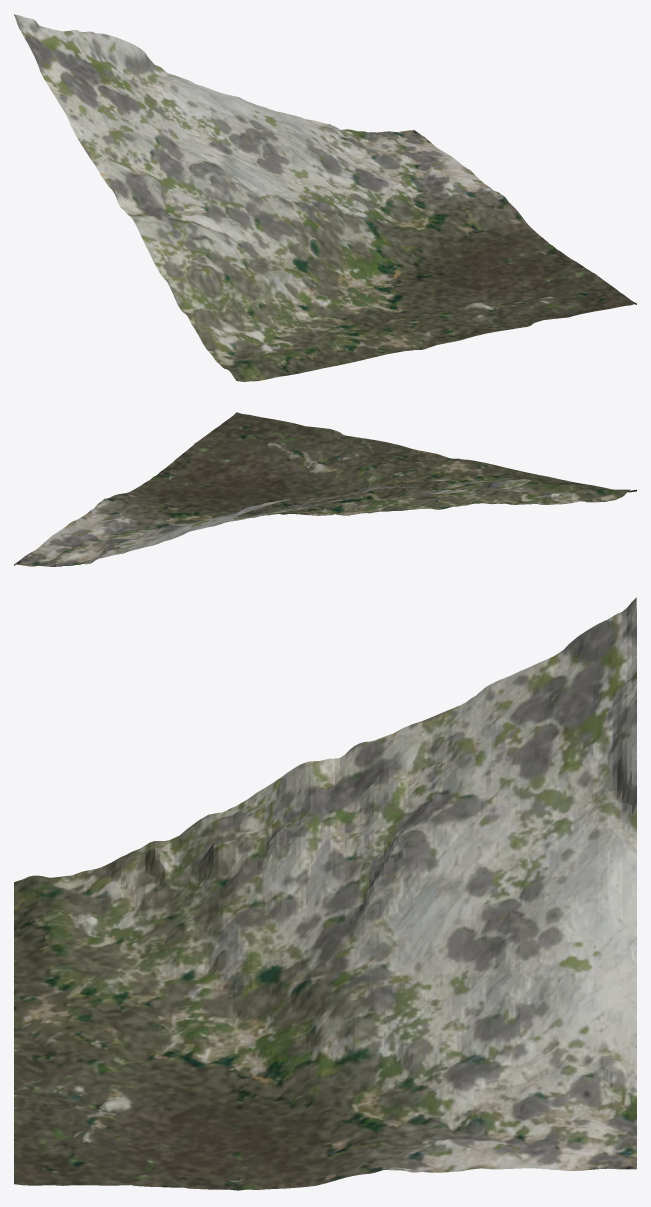
3 views of the same model, one above another, from view 1: azimuth 30°, elevation 25°; view 2: azimuth 150°, elevation 25°; view 3: azimuth 270°, elevation 25° (orthographic). The views are drawn at different scales.
Size of the model in its own units: 250 by 137 by 241.
Materials: 1 (1 with a texture image).
